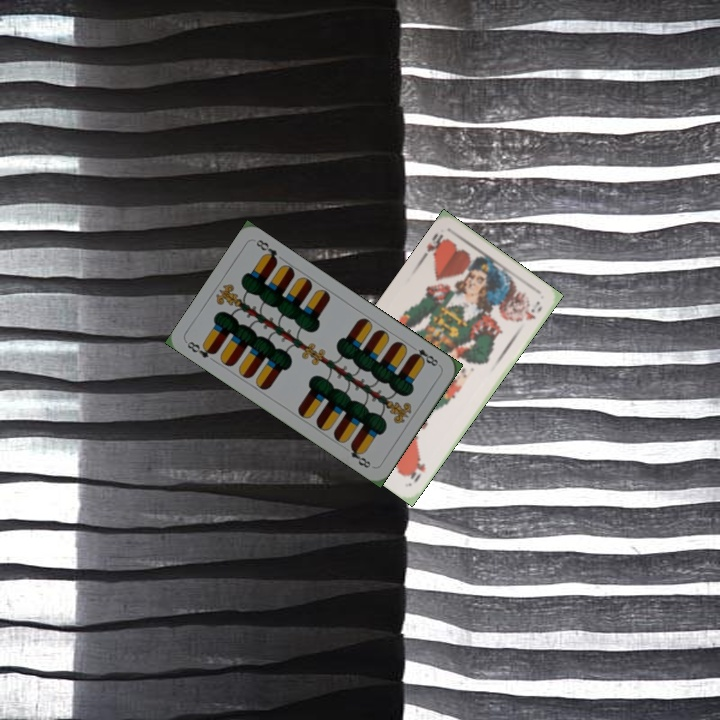E8: (407, 341, 443, 369), (183, 337, 218, 361)
HO: (422, 229, 450, 260), (405, 454, 428, 485)
